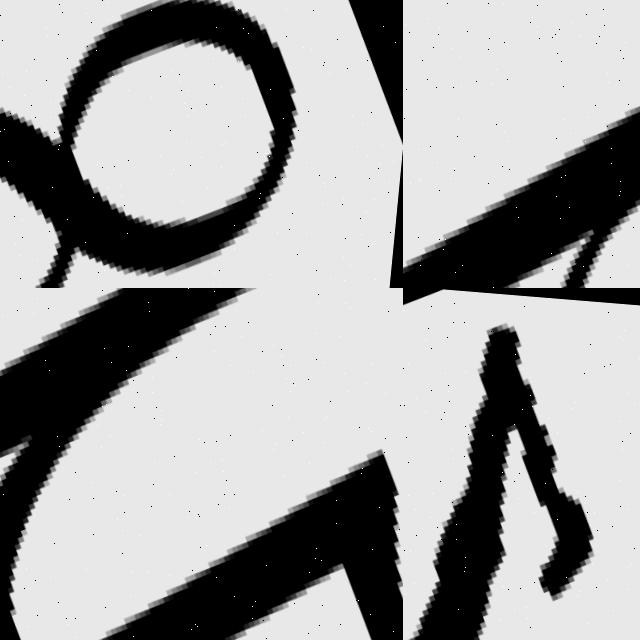8: (0, 0, 389, 288)
Q: (403, 0, 640, 288)
U: (0, 288, 403, 640)
Z: (403, 288, 640, 640)
